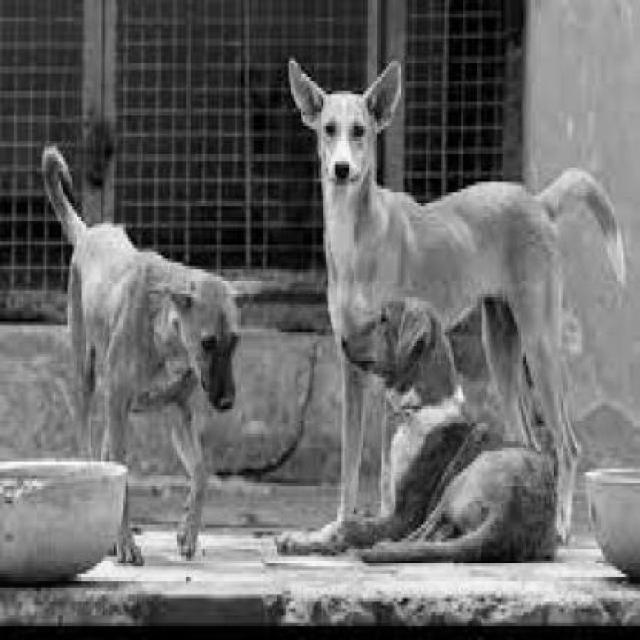Dog: (279, 31, 638, 532), (37, 125, 249, 566), (328, 302, 563, 568)
